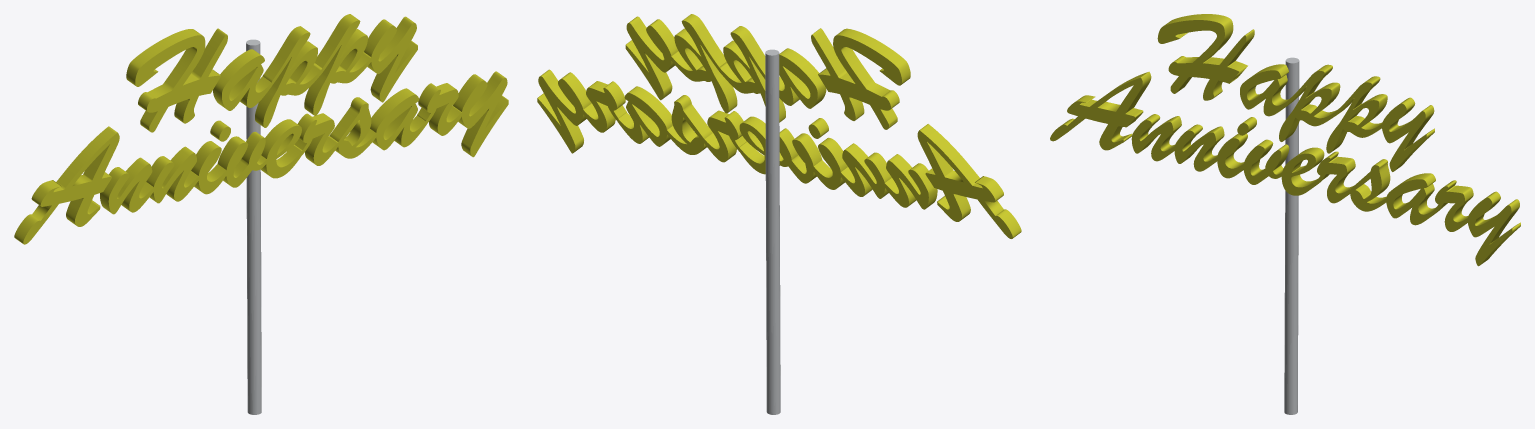
File: anniversary_stick1.glb
3 views of the same model, side by side, from view 1: azimuth 30°, elevation 25°; view 2: azimuth 150°, elevation 25°; view 3: azimuth 330°, elevation 25° (orthographic). The views are drawn at different scales.
Visible parts, largest first — view 1: Text.002, Text.003, Cylinder.001; view 2: Text.002, Text.003, Cylinder.001; view 3: Text.002, Text.003, Cylinder.001.
Part boxes in pixels (left/top/right/bottom): Text.002: left=14, top=71, right=508, bottom=244; Text.003: left=126, top=14, right=417, bottom=132; Cylinder.001: left=246, top=39, right=261, bottom=414; Text.002: left=537, top=69, right=1021, bottom=238; Text.003: left=625, top=14, right=910, bottom=129; Cylinder.001: left=765, top=49, right=780, bottom=414; Text.002: left=1050, top=71, right=1520, bottom=266; Text.003: left=1157, top=14, right=1434, bottom=171; Cylinder.001: left=1284, top=57, right=1299, bottom=414.
Bounding box in the file's own units: 1.42 × 1.12 × 0.0816.
